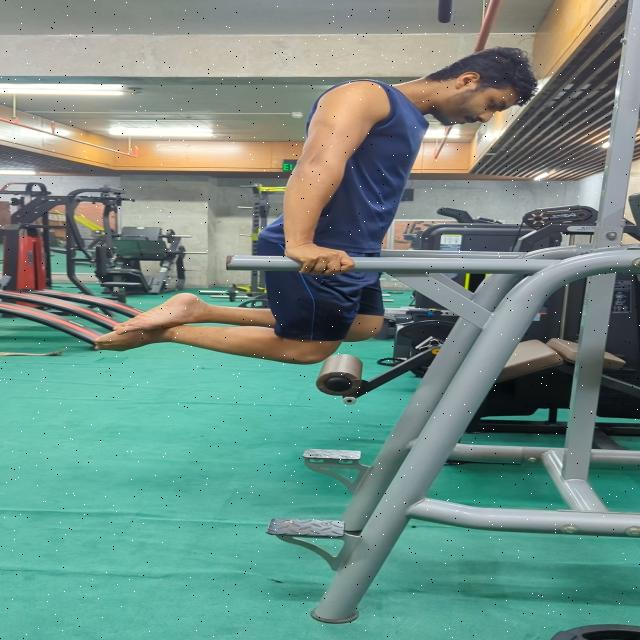Normal_Dips: (80, 46, 542, 366)
